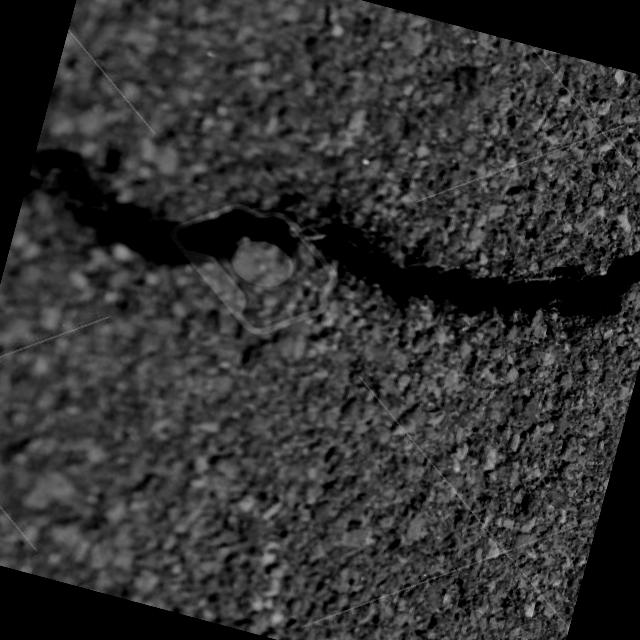crack: (15, 61, 640, 395)
